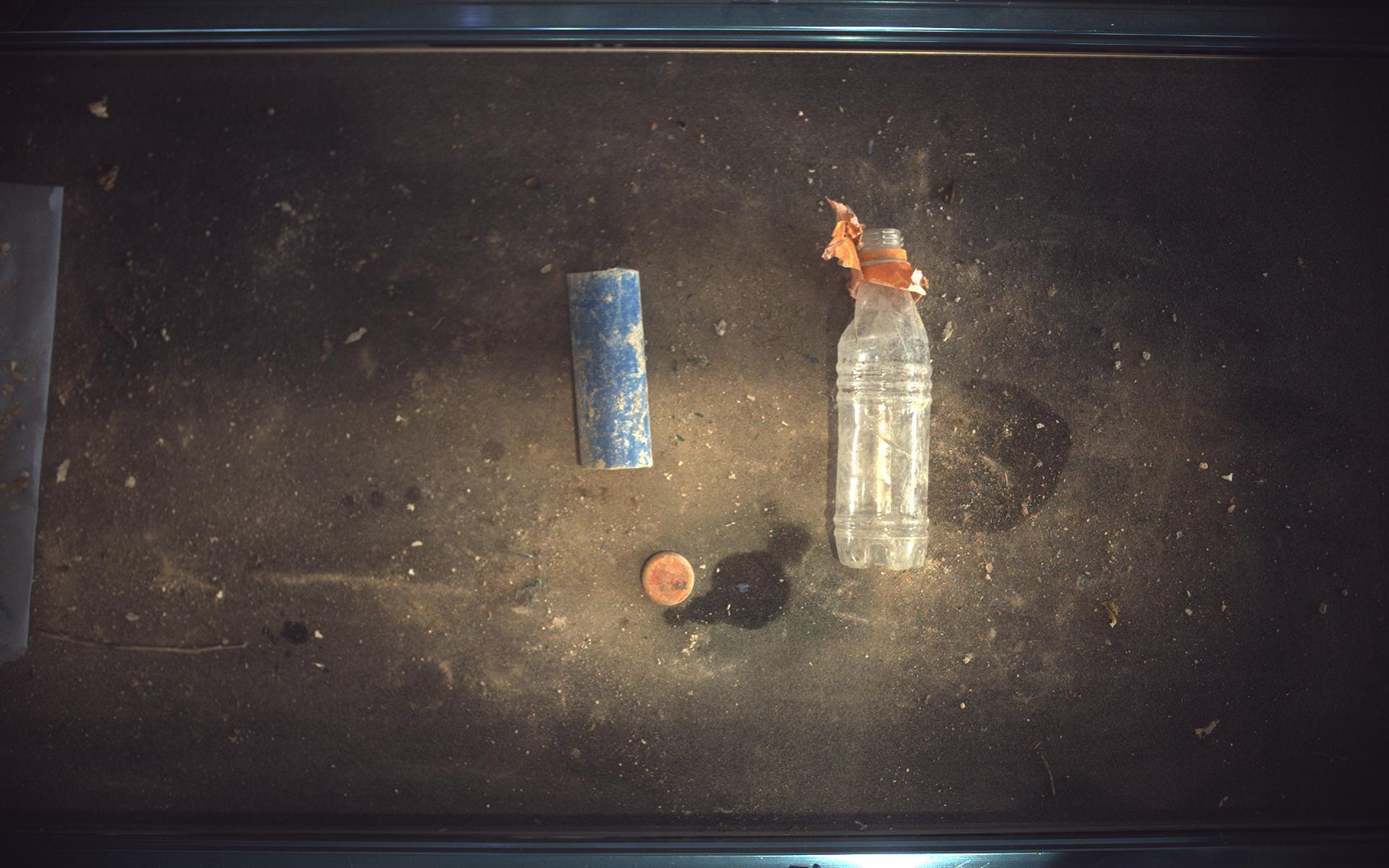general_w: (824, 200, 933, 571)
pipes: (568, 268, 654, 469)
